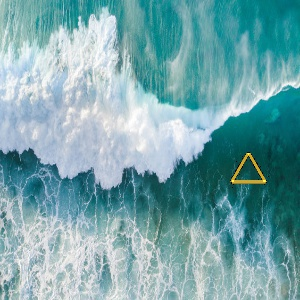triangle: (225, 150, 270, 187)
